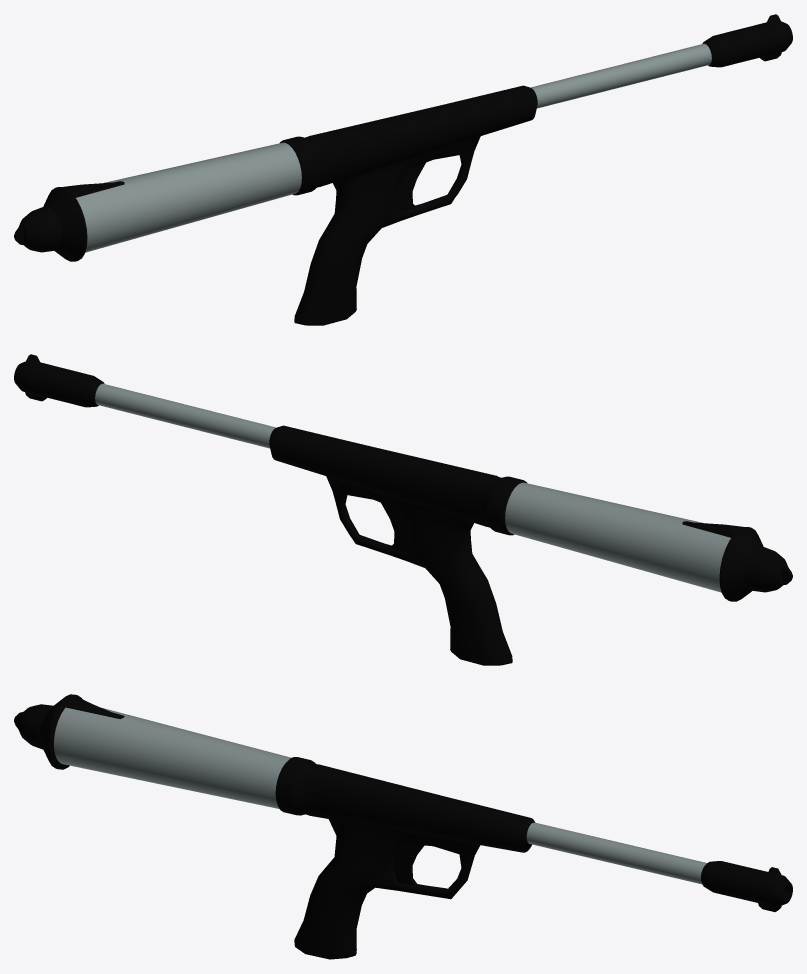
The model's file is fusilsubmarino.fbx.
3 views of the same model, one above another, from view 1: azimuth 30°, elevation 25°; view 2: azimuth 150°, elevation 25°; view 3: azimuth 330°, elevation 25° (orthographic).
Visible parts, largest first — view 1: fusilsubmarino, gatillo; view 2: fusilsubmarino, gatillo; view 3: fusilsubmarino, gatillo.
Boxes of the visible parts, bbox=[...] form: fusilsubmarino: bbox=[14, 14, 792, 325]; gatillo: bbox=[395, 163, 425, 212]; fusilsubmarino: bbox=[14, 354, 792, 665]; gatillo: bbox=[381, 503, 411, 552]; fusilsubmarino: bbox=[14, 694, 792, 959]; gatillo: bbox=[392, 843, 424, 885].
Size of the model in its own units: 67.59 by 16.17 by 5.8.
